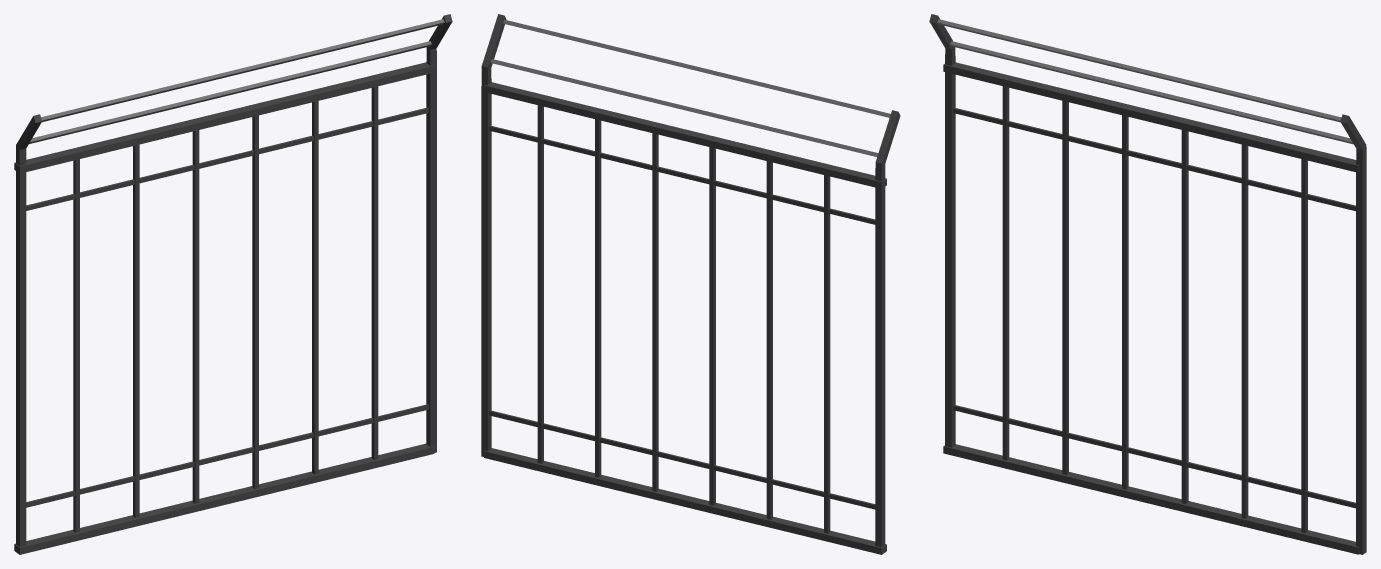
File: SM_IndustrialProps_Fence_04.fbx
3 renders of one model, left to right at view 1: azimuth 30°, elevation 25°; view 2: azimuth 150°, elevation 25°; view 3: azimuth 330°, elevation 25°, orthographic. The views are drawn at different scales.
Parts seen in each view (by area): view 1: SM_IndustrialProps_Fence_04; view 2: SM_IndustrialProps_Fence_04; view 3: SM_IndustrialProps_Fence_04.
Part boxes in pixels (bbox=[...]): SM_IndustrialProps_Fence_04: bbox=[14, 14, 452, 554]; SM_IndustrialProps_Fence_04: bbox=[481, 14, 900, 554]; SM_IndustrialProps_Fence_04: bbox=[929, 14, 1366, 554].
Size of the model in its own units: 2.5 by 2.56 by 0.2107.
